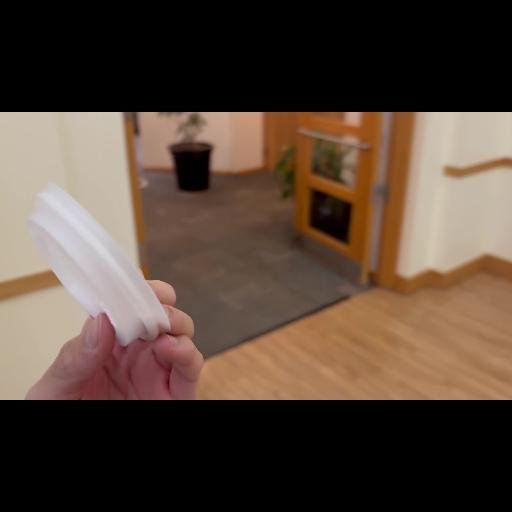lp_cup_lids: (18, 177, 178, 345)
